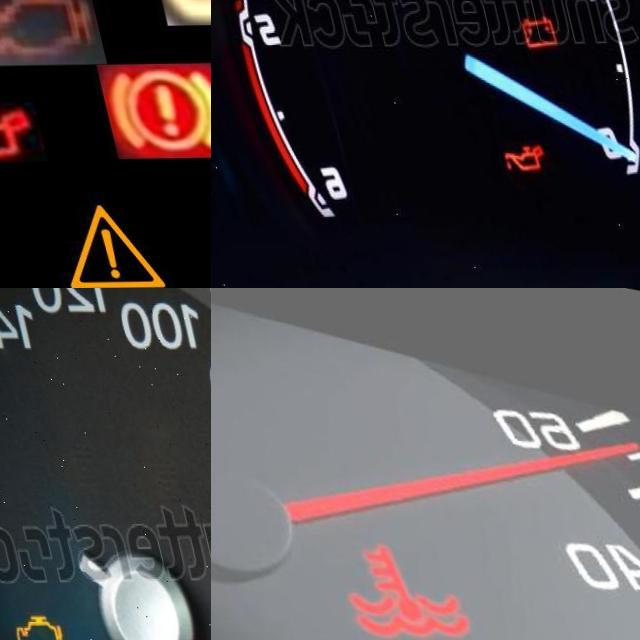Central Warning lamp: (19, 188, 160, 288)
Engine cooling system: (304, 535, 473, 640)
